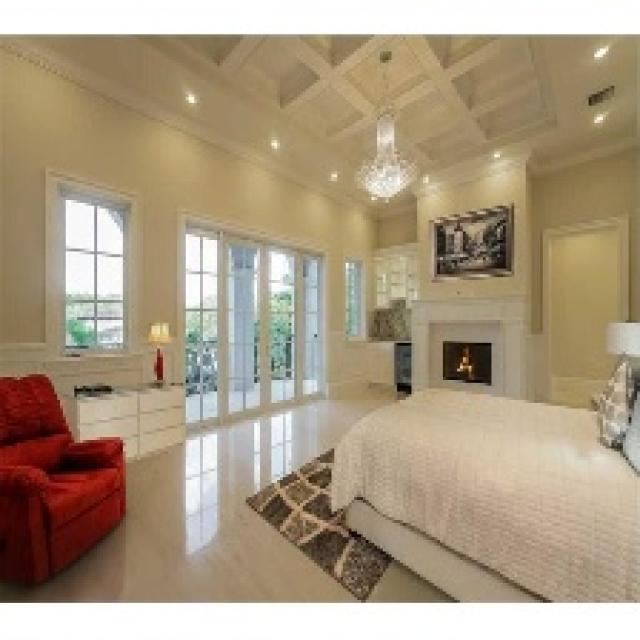Bed: (329, 377, 637, 600)
